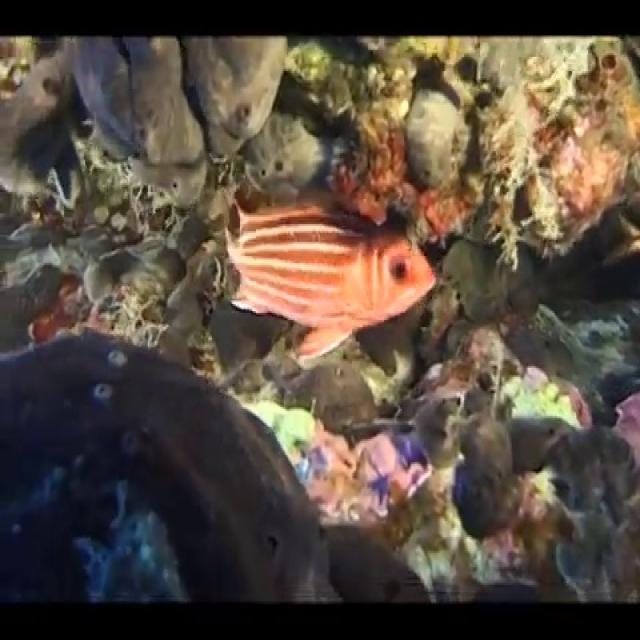Asker Baligi: (222, 185, 438, 363)
